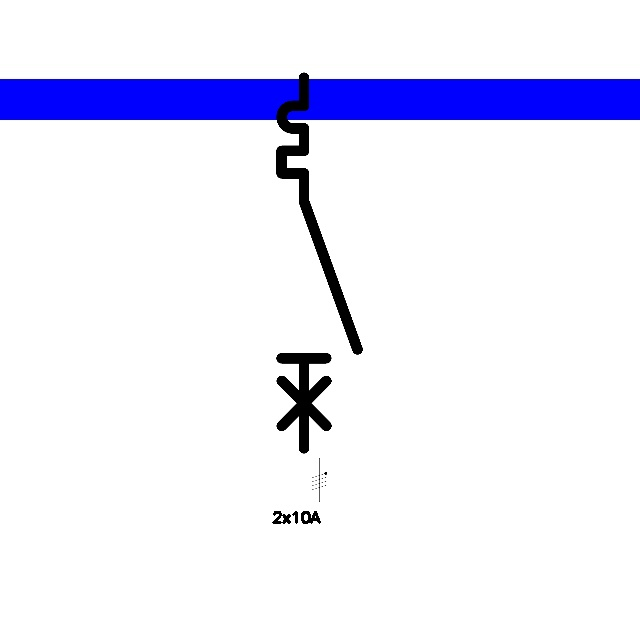interruptor_termomagnetico: (272, 68, 367, 458)
